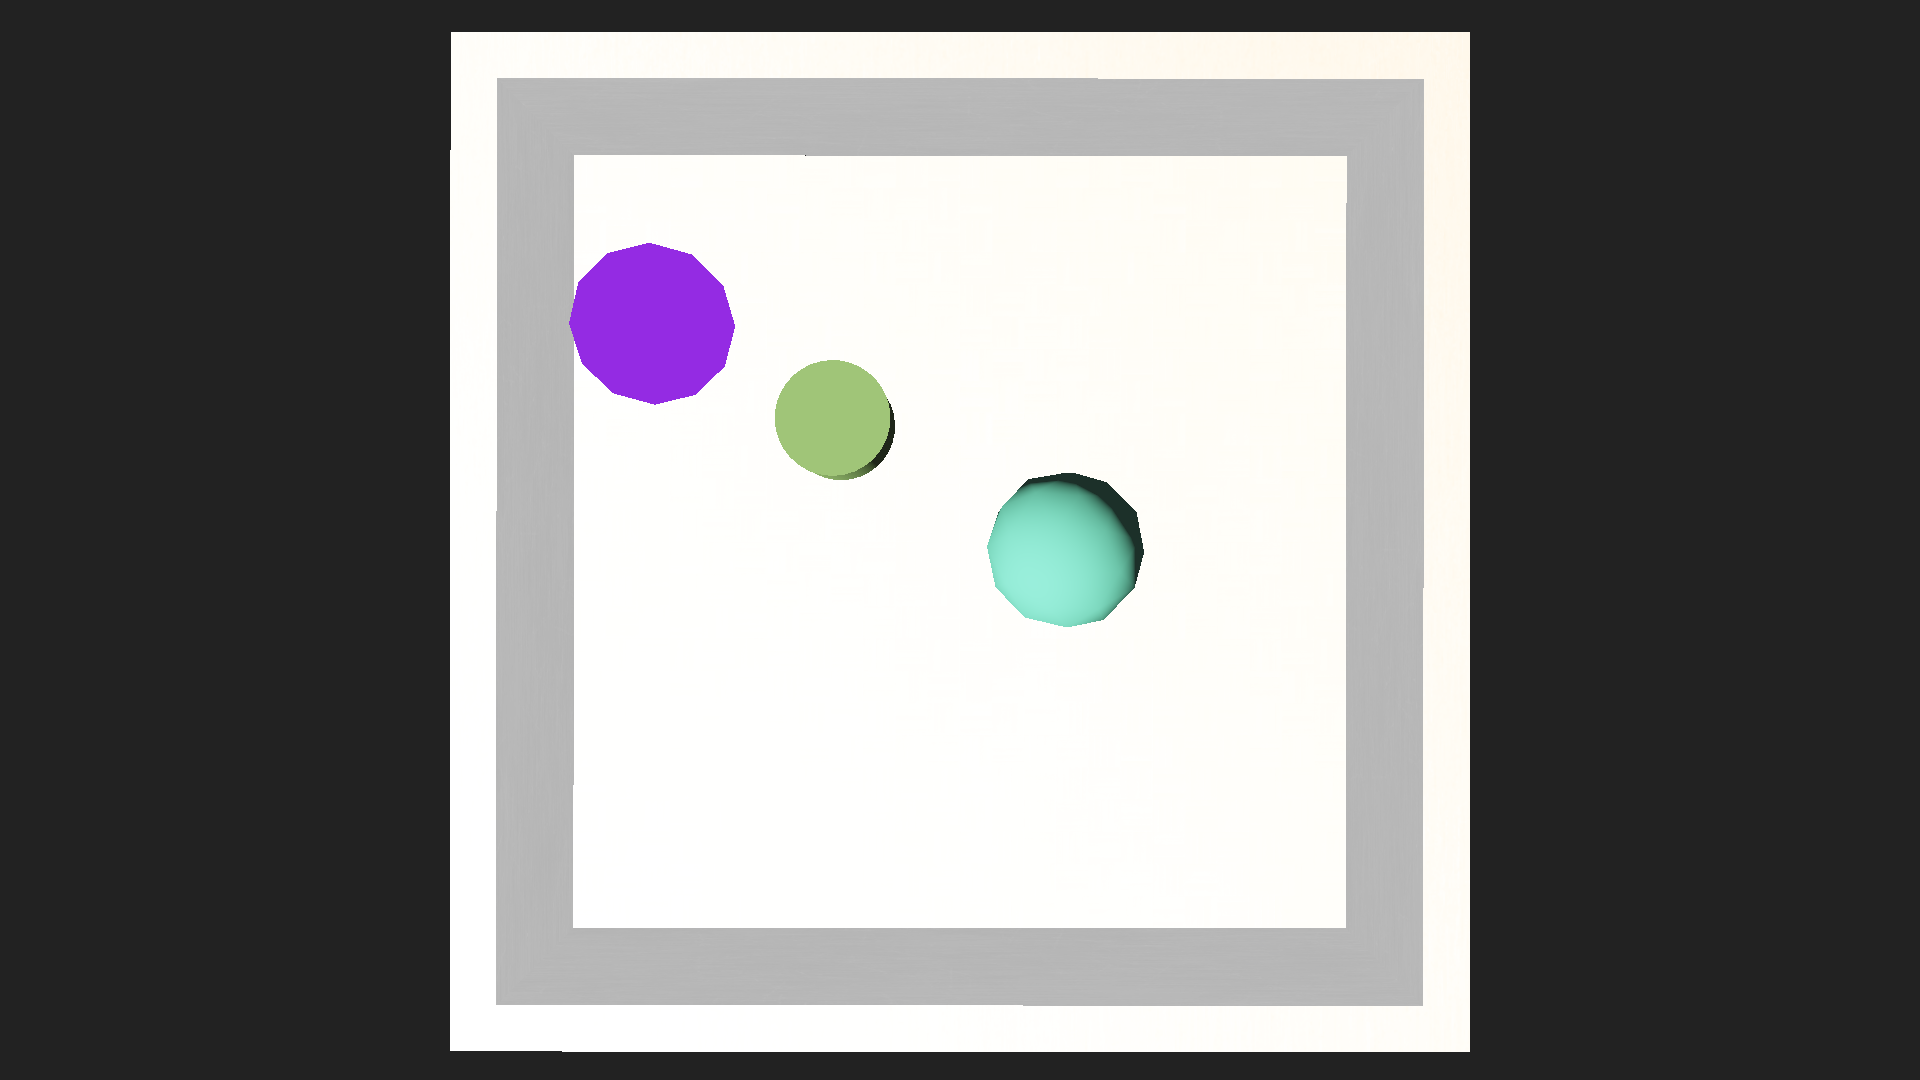cone: (774, 359, 894, 479)
cylinder: (571, 193, 749, 406)
sphere: (985, 469, 1145, 629)
